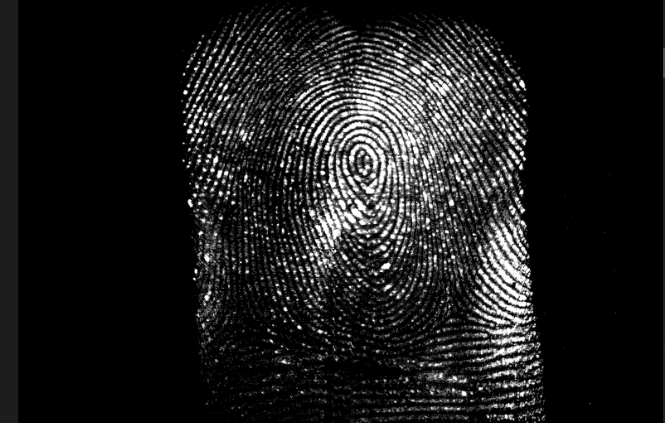nucelo: (347, 142, 382, 182)
verticilo: (437, 297, 473, 325), (228, 312, 255, 334)
